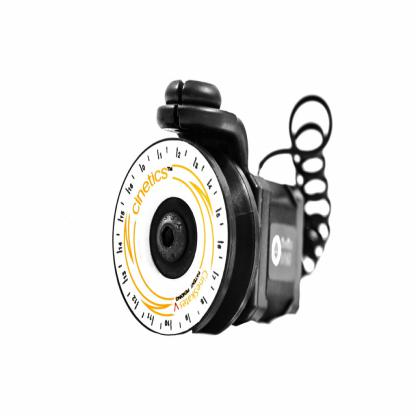Camera: (112, 80, 336, 337)
